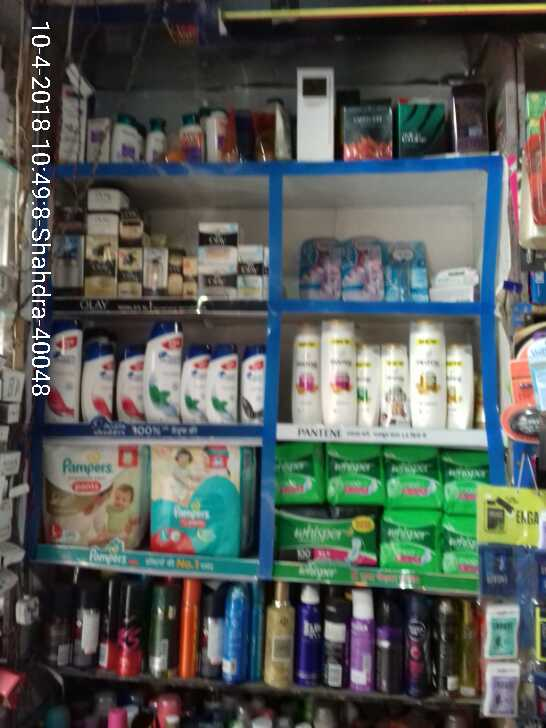venus: (341, 236, 384, 300), (300, 236, 342, 300), (384, 239, 426, 300)
